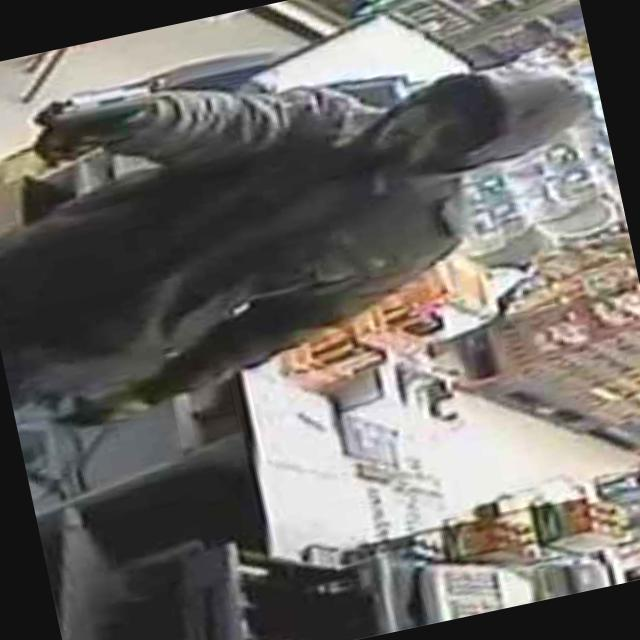handgun: (34, 74, 162, 158)
